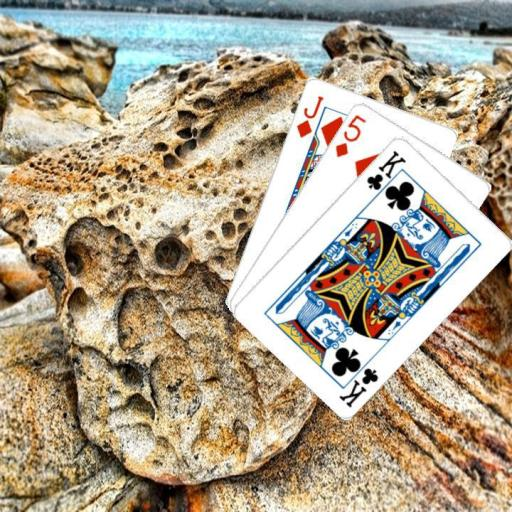5D: (331, 111, 368, 159)
JD: (293, 92, 325, 139)
KC: (336, 354, 381, 409), (364, 147, 408, 201)
